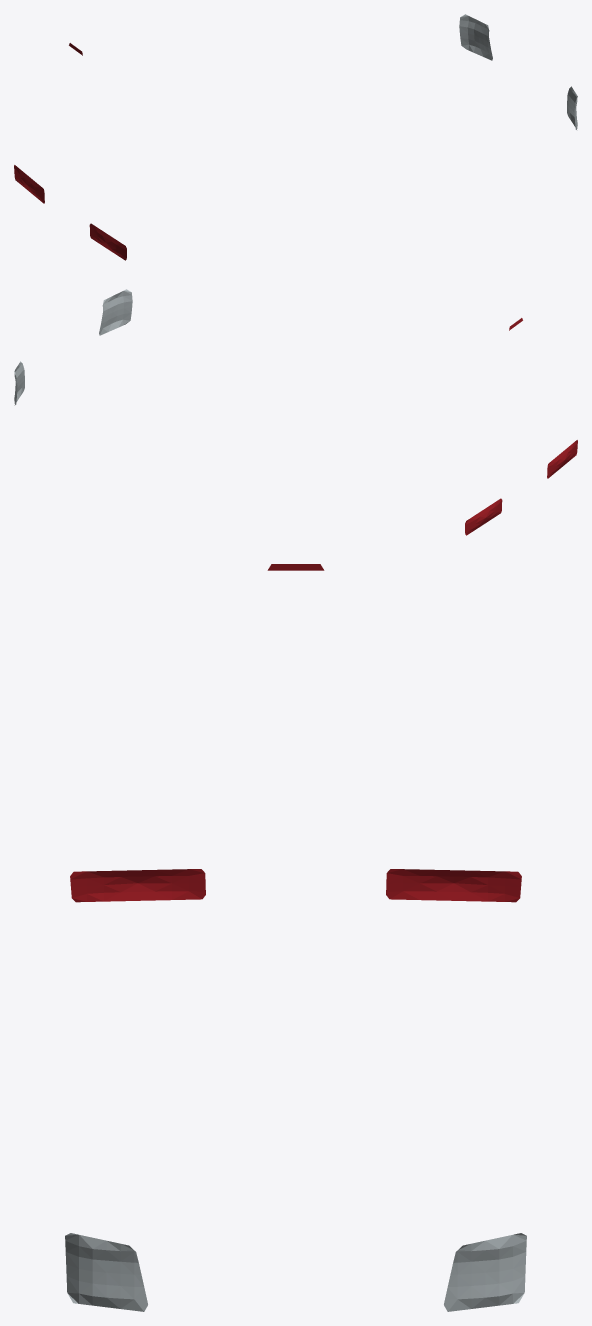
Rendered from kei-acty-hh5-e1a8b663-lamps.glb.
3 views of the same model, one above another, from view 1: azimuth 30°, elevation 25°; view 2: azimuth 150°, elevation 25°; view 3: azimuth 270°, elevation 25° (orthographic). The views are drawn at different scales.
Parts seen in each view (by area): view 1: Left_Headlight_Reflector, Right_Tail_Lamp, Left_Tail_Lamp, Right_Headlight_Reflector; view 2: Right_Headlight_Reflector, Left_Tail_Lamp, Right_Tail_Lamp, Left_Headlight_Reflector; view 3: Left_Headlight_Reflector, Right_Headlight_Reflector, Left_Tail_Lamp, Right_Tail_Lamp.
Part boxes in pixels (x1,y1,x2,y2): Left_Headlight_Reflector: [459, 14, 492, 60]; Right_Tail_Lamp: [89, 223, 126, 260]; Left_Tail_Lamp: [14, 165, 44, 203]; Right_Headlight_Reflector: [567, 86, 577, 130]; Right_Headlight_Reflector: [99, 289, 132, 335]; Left_Tail_Lamp: [465, 498, 502, 535]; Right_Tail_Lamp: [547, 440, 577, 478]; Left_Headlight_Reflector: [14, 361, 24, 405]; Left_Headlight_Reflector: [444, 1233, 526, 1311]; Right_Headlight_Reflector: [65, 1233, 147, 1311]; Left_Tail_Lamp: [386, 869, 521, 902]; Right_Tail_Lamp: [70, 869, 205, 902].
Bounding box in the file's own units: 3.34 × 1.18 × 1.44.
